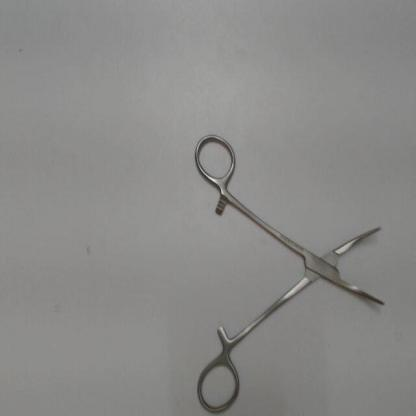Crile Artery Forceps: (189, 128, 392, 413)
